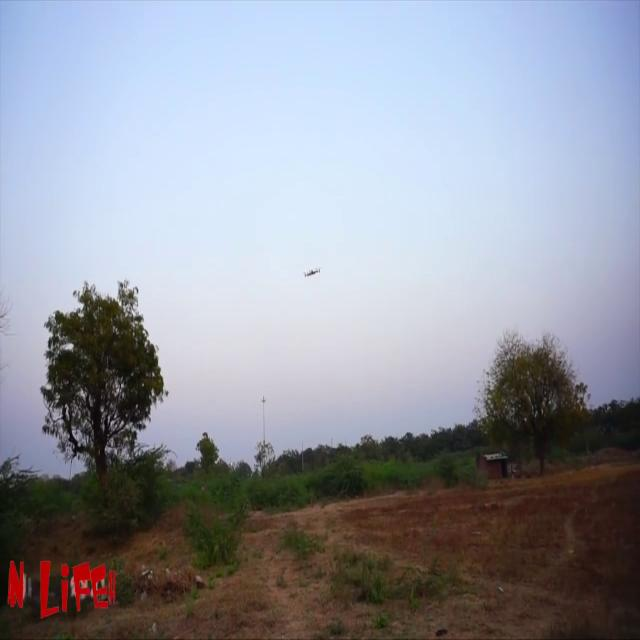drone: (300, 263, 325, 288)
